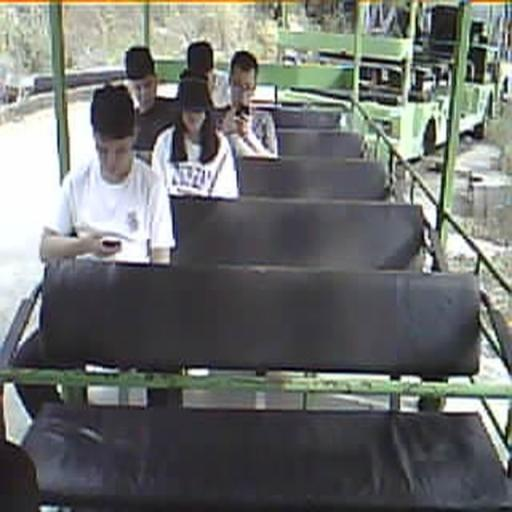persona: (39, 83, 176, 267), (151, 77, 240, 200), (117, 45, 180, 153), (219, 50, 279, 158), (178, 40, 231, 114)
